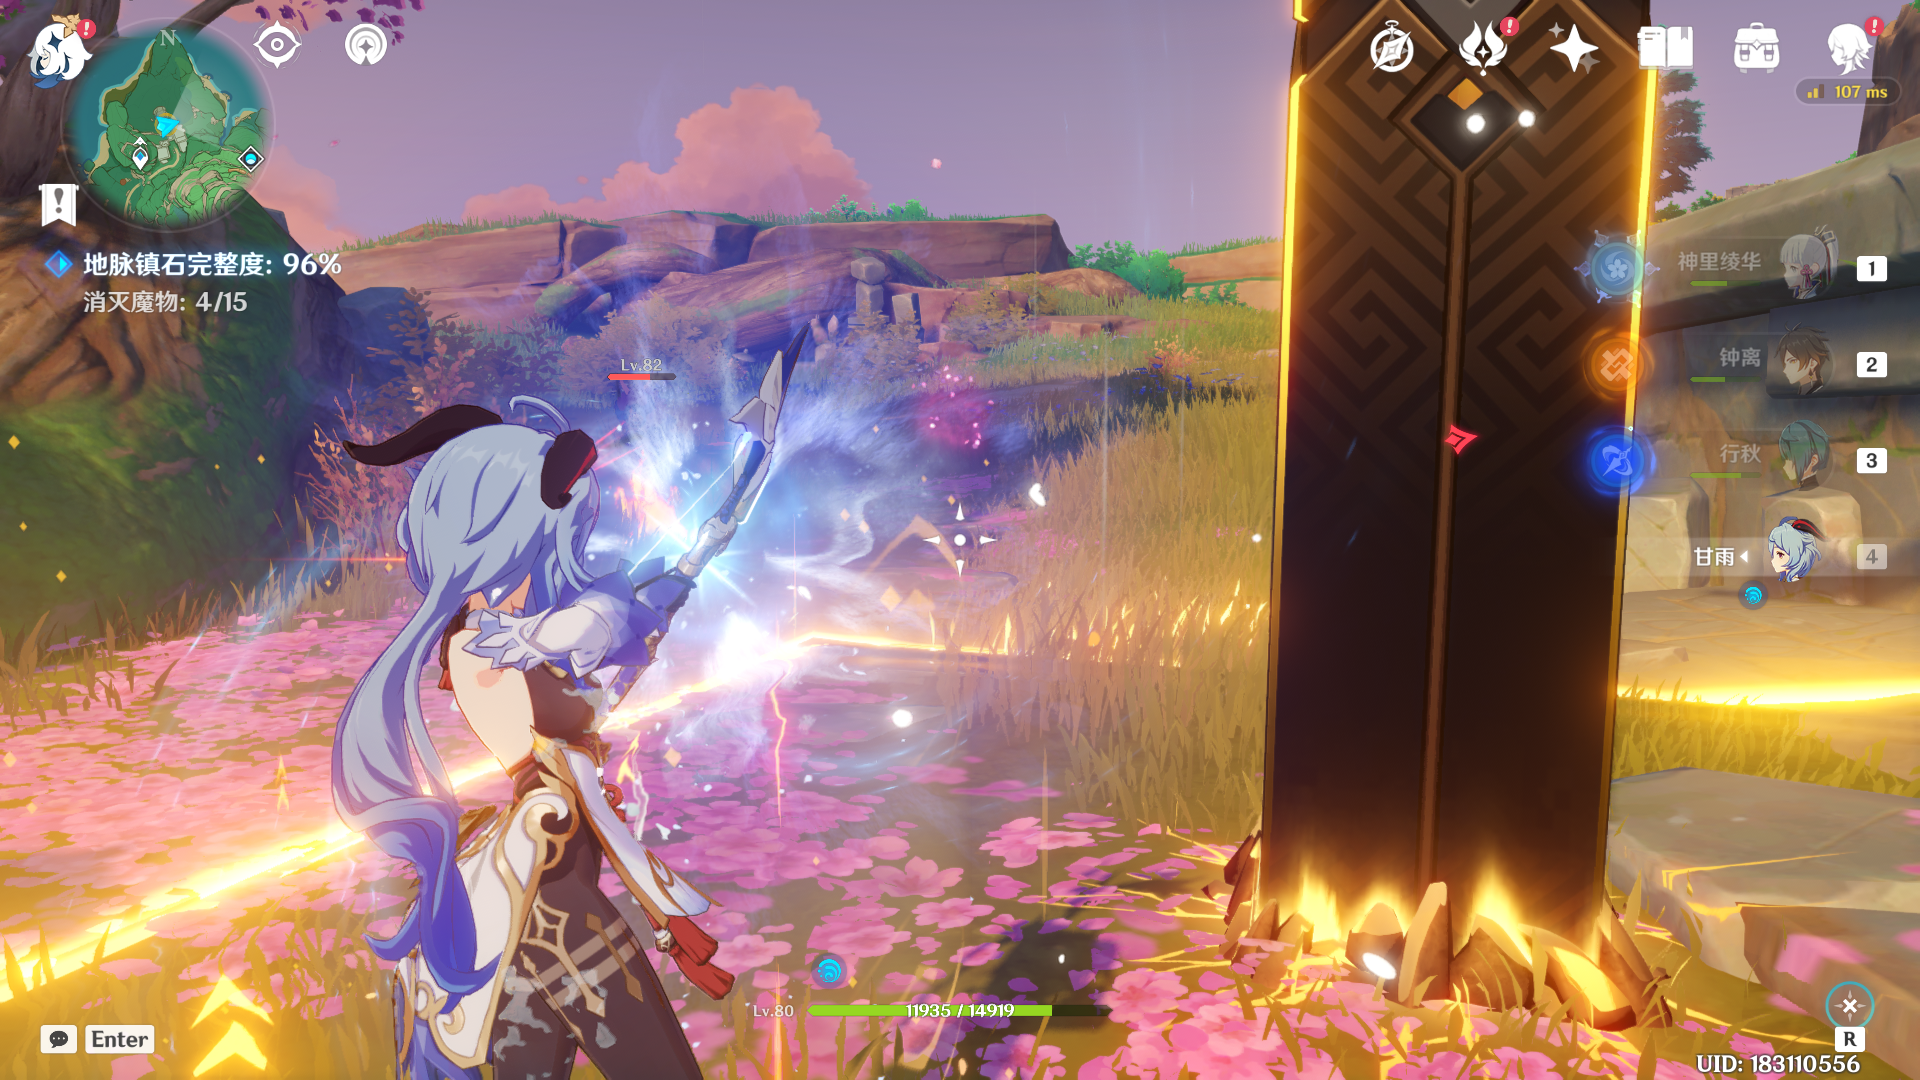character: (248, 309, 857, 1080)
